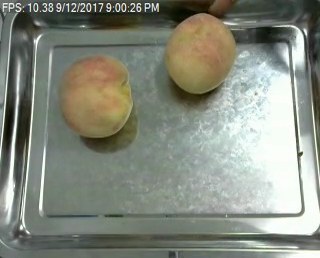Peach: (58, 53, 133, 139), (165, 12, 236, 94)
